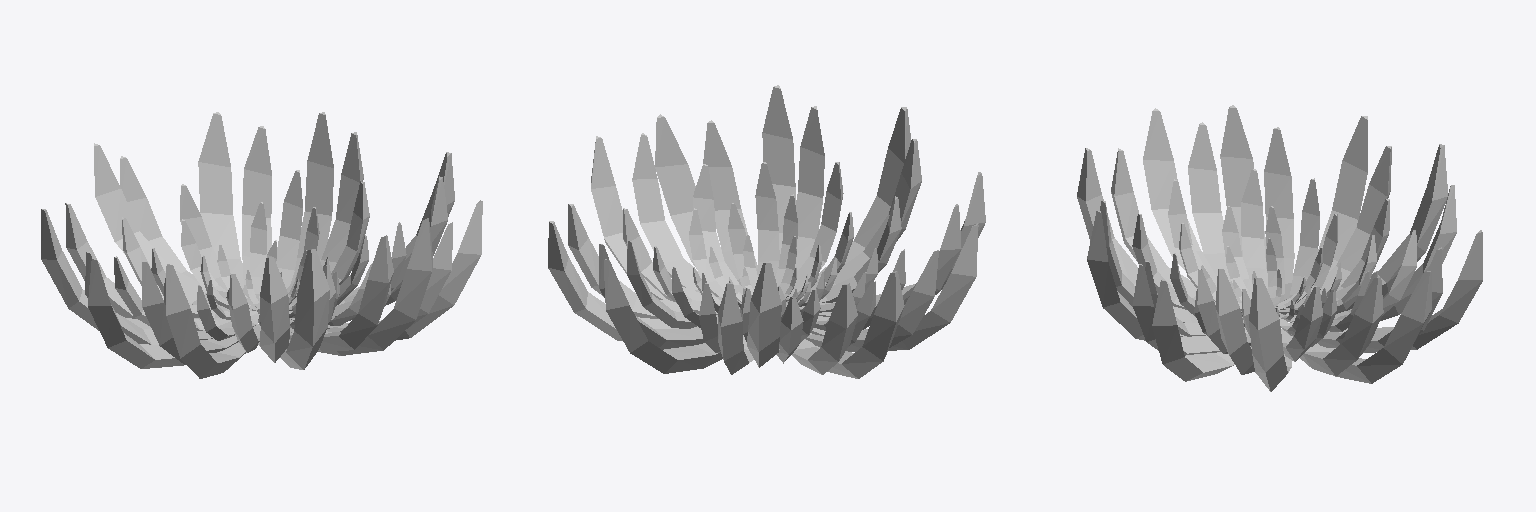
File: coral 1.obj
3 views of the same model, side by side, from view 1: azimuth 30°, elevation 25°; view 2: azimuth 150°, elevation 25°; view 3: azimuth 270°, elevation 25° (orthographic).
Visible parts, largest first — view 1: mesh[number redacted], mesh[number redacted], mesh[number redacted], mesh[number redacted], mesh[number redacted], mesh[number redacted], mesh[number redacted], mesh[number redacted], mesh[number redacted], mesh[number redacted], mesh[number redacted], mesh[number redacted] (+20 smaller); view 2: mesh[number redacted], mesh[number redacted], mesh[number redacted], mesh[number redacted], mesh[number redacted], mesh[number redacted], mesh[number redacted], mesh[number redacted], mesh[number redacted], mesh[number redacted], mesh[number redacted], mesh[number redacted] (+24 smaller); view 3: mesh[number redacted], mesh[number redacted], mesh[number redacted], mesh[number redacted], mesh[number redacted], mesh[number redacted], mesh[number redacted], mesh[number redacted], mesh[number redacted], mesh[number redacted], mesh[number redacted], mesh[number redacted] (+24 smaller).
Boxes of the visible parts, x1=… form: mesh[number redacted]: x1=198, y1=112, x2=244, y2=293; mesh[number redacted]: x1=318, y1=218, x2=432, y2=355; mesh[number redacted]: x1=280, y1=249, x2=329, y2=369; mesh[number redacted]: x1=166, y1=264, x2=245, y2=378; mesh[number redacted]: x1=290, y1=112, x2=333, y2=284; mesh[number redacted]: x1=94, y1=143, x2=251, y2=311; mesh[number redacted]: x1=290, y1=235, x2=393, y2=351; mesh[number redacted]: x1=88, y1=258, x2=183, y2=368; mesh[number redacted]: x1=242, y1=126, x2=271, y2=313; mesh[number redacted]: x1=253, y1=257, x2=289, y2=362; mesh[number redacted]: x1=348, y1=200, x2=482, y2=340; mesh[number redacted]: x1=41, y1=209, x2=151, y2=330; mesh[number redacted]: x1=604, y1=259, x2=722, y2=373; mesh[number redacted]: x1=632, y1=133, x2=714, y2=295; mesh[number redacted]: x1=774, y1=106, x2=824, y2=293; mesh[number redacted]: x1=655, y1=114, x2=725, y2=268; mesh[number redacted]: x1=762, y1=85, x2=795, y2=253; mesh[number redacted]: x1=816, y1=271, x2=904, y2=378; mesh[number redacted]: x1=548, y1=221, x2=678, y2=340; mesh[number redacted]: x1=861, y1=223, x2=978, y2=350; mesh[number redacted]: x1=818, y1=107, x2=910, y2=277; mesh[number redacted]: x1=703, y1=120, x2=757, y2=285; mesh[number redacted]: x1=591, y1=136, x2=675, y2=302; mesh[number redacted]: x1=747, y1=263, x2=781, y2=367; mesh[number redacted]: x1=1188, y1=122, x2=1235, y2=292; mesh[number redacted]: x1=1321, y1=271, x2=1431, y2=383; mesh[number redacted]: x1=1143, y1=108, x2=1216, y2=279; mesh[number redacted]: x1=1317, y1=116, x2=1367, y2=271; mesh[number redacted]: x1=1289, y1=144, x2=1447, y2=314; mesh[number redacted]: x1=1249, y1=278, x2=1291, y2=391; mesh[number redacted]: x1=1152, y1=279, x2=1234, y2=381; mesh[number redacted]: x1=1286, y1=277, x2=1383, y2=375; mesh[number redacted]: x1=1264, y1=127, x2=1294, y2=300; mesh[number redacted]: x1=1320, y1=146, x2=1391, y2=294; mesh[number redacted]: x1=1347, y1=230, x2=1482, y2=352; mesh[number redacted]: x1=1220, y1=105, x2=1265, y2=257.
Size of the model in its own units: 0.4429 by 0.1973 by 0.4139.